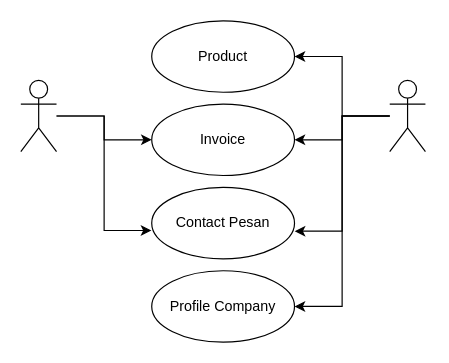
Image size: 449x363. Some labels were removed from this diagram. Each missing label, with the centre of its shape:
Admin: point (407, 115)
User: point (38, 115)
